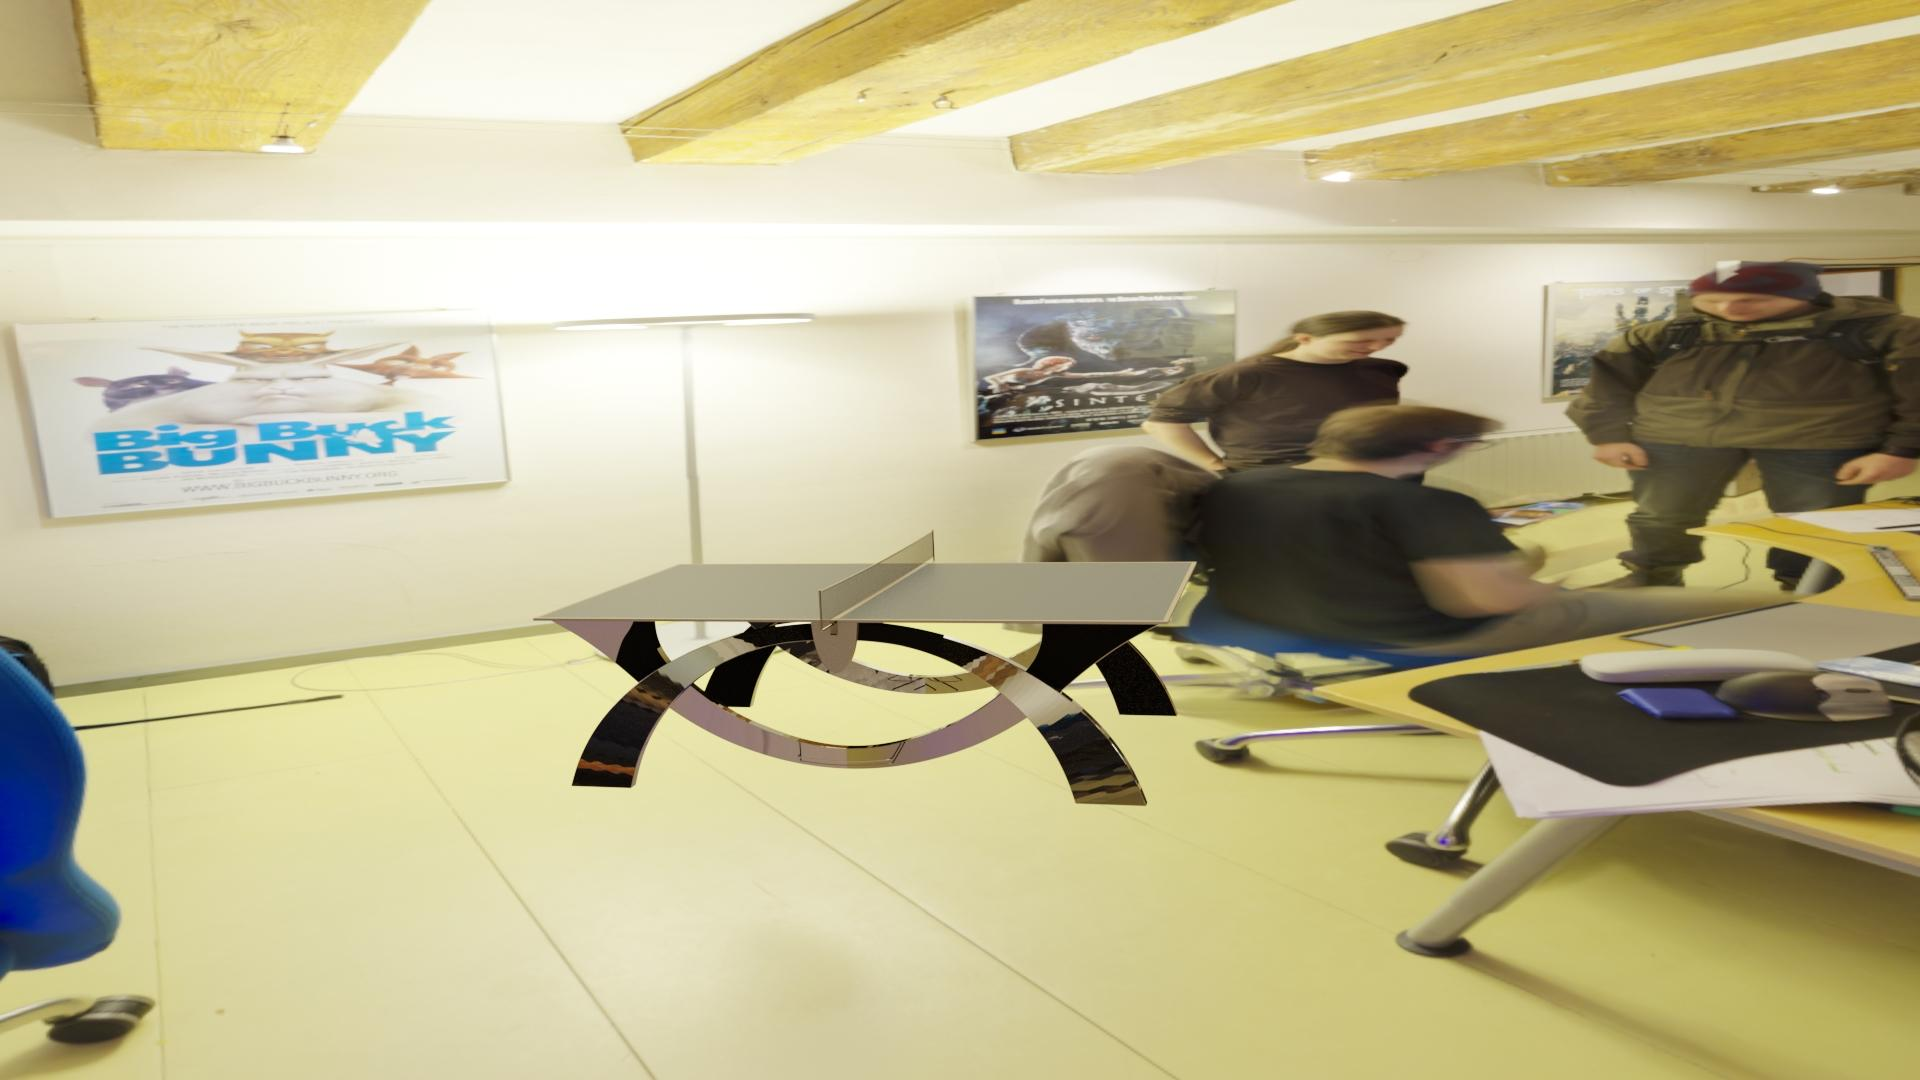table: (539, 563, 1192, 621)
